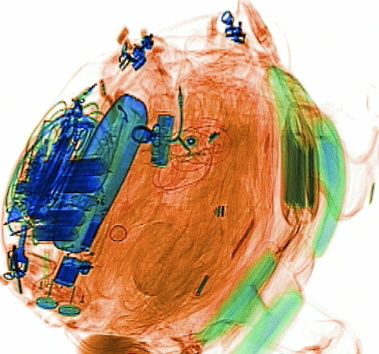powerbank: (27, 150, 111, 242)
